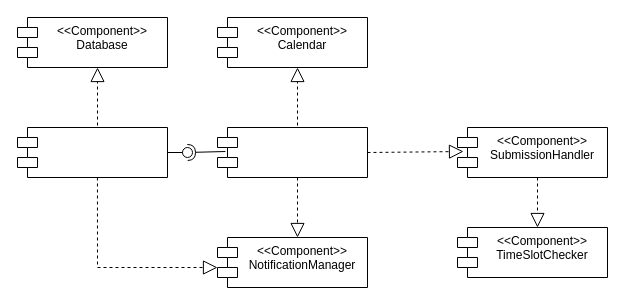
This 625x305 diagram has some shape labels left out. The shapes that lost their labels are listed below. From the top down, each one's centre as x and y in pixels, then its label:
point (92, 152): <<Component>> InterviewManager
point (292, 152): <<Component>> InterviewStrategy
